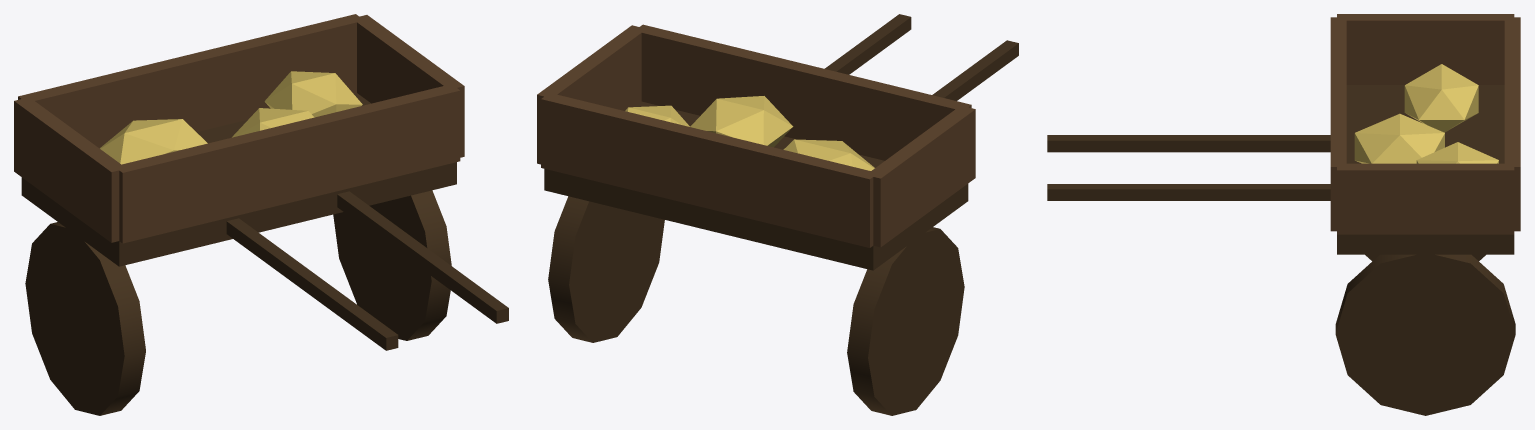
The model's file is farm-cart.glb.
3 views of the same model, side by side, from view 1: azimuth 30°, elevation 25°; view 2: azimuth 150°, elevation 25°; view 3: azimuth 270°, elevation 25° (orthographic). The views are drawn at different scales.
Bounding box in the file's own units: 1.15 × 0.86 × 1.47.
